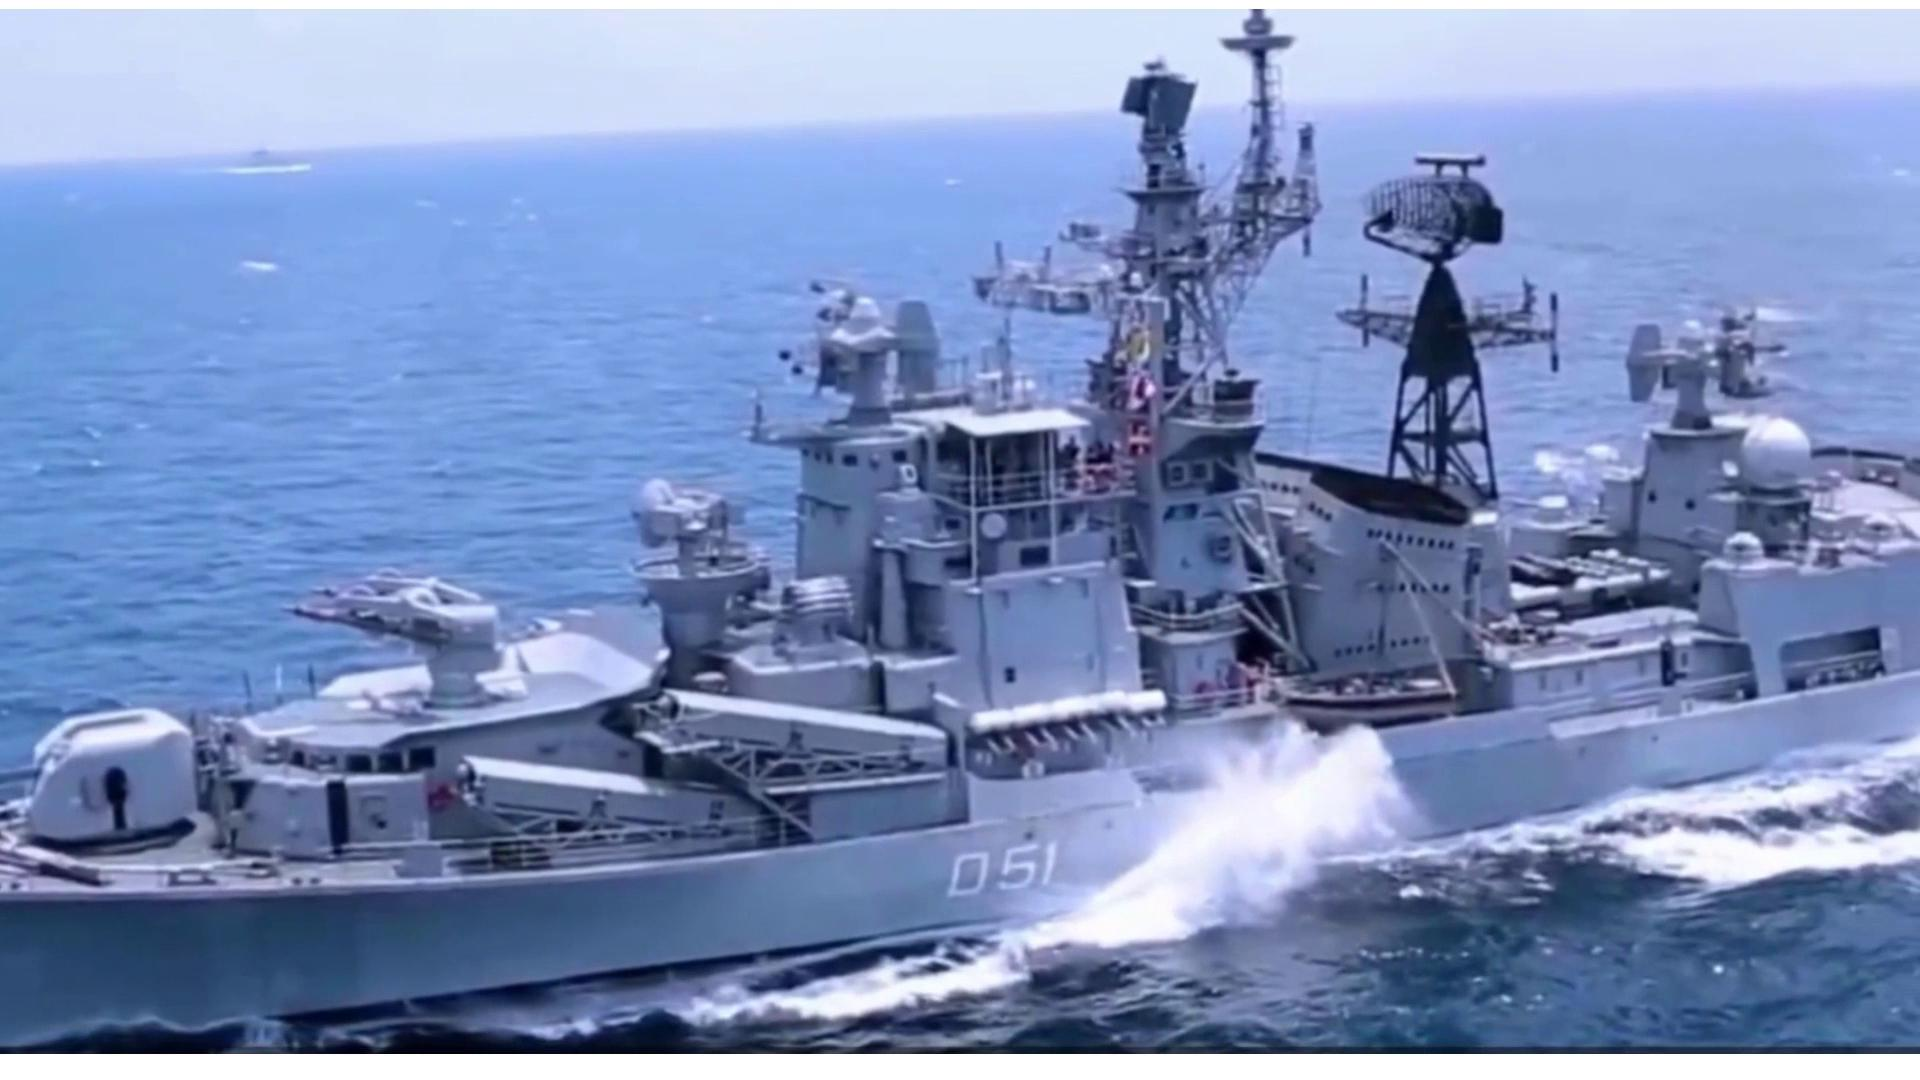OCR: (924, 828, 1076, 916)
